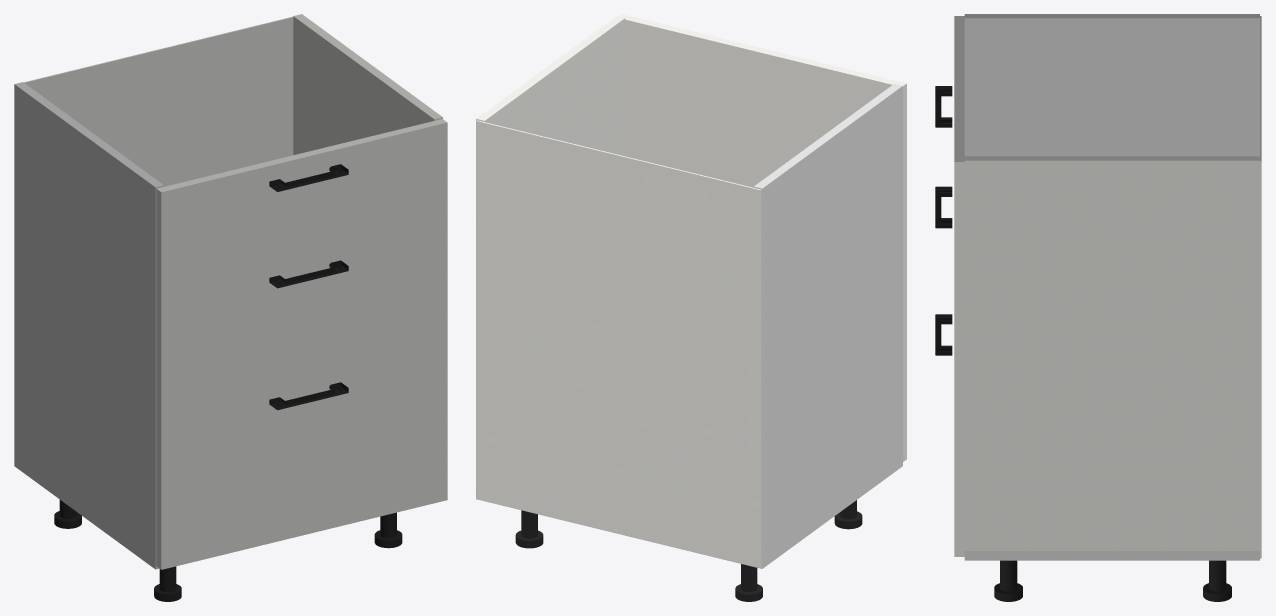
The picture shows the model from 3 angles, left to right: view 1: azimuth 30°, elevation 25°; view 2: azimuth 150°, elevation 25°; view 3: azimuth 270°, elevation 25°; orthographic projection. The views are drawn at different scales.
Parts seen in each view (by area): view 1: door, carcass, handle, plinth; view 2: carcass, door, plinth; view 3: carcass, door, plinth, handle.
Boxes of the visible parts, bbox=[...] form: door: bbox=[156, 119, 447, 569]; carcass: bbox=[14, 14, 442, 569]; handle: bbox=[269, 164, 348, 410]; plinth: bbox=[54, 500, 402, 601]; carcass: bbox=[476, 16, 902, 568]; door: bbox=[619, 14, 906, 461]; plinth: bbox=[515, 500, 862, 601]; carcass: bbox=[964, 14, 1261, 560]; door: bbox=[954, 16, 964, 556]; plinth: bbox=[994, 560, 1231, 601]; handle: bbox=[935, 86, 952, 355].
Size of the model in its own units: 0.6 by 0.862 by 0.5636.
4 materials, 4 textured.
